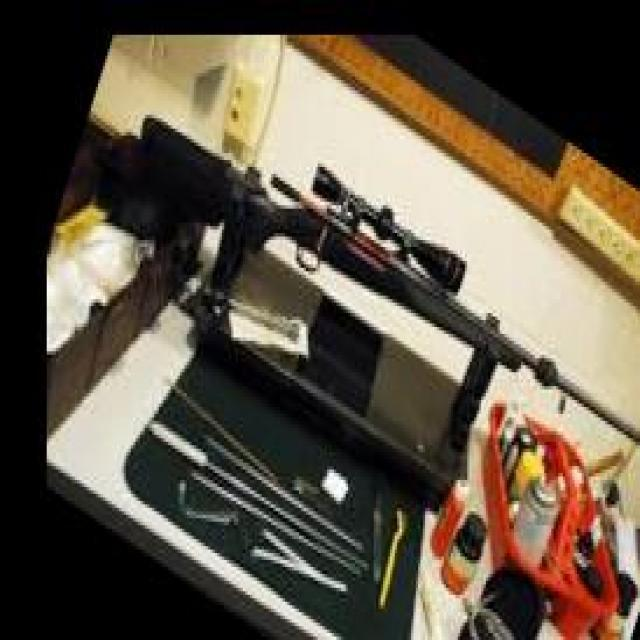weapon: (127, 114, 640, 446)
